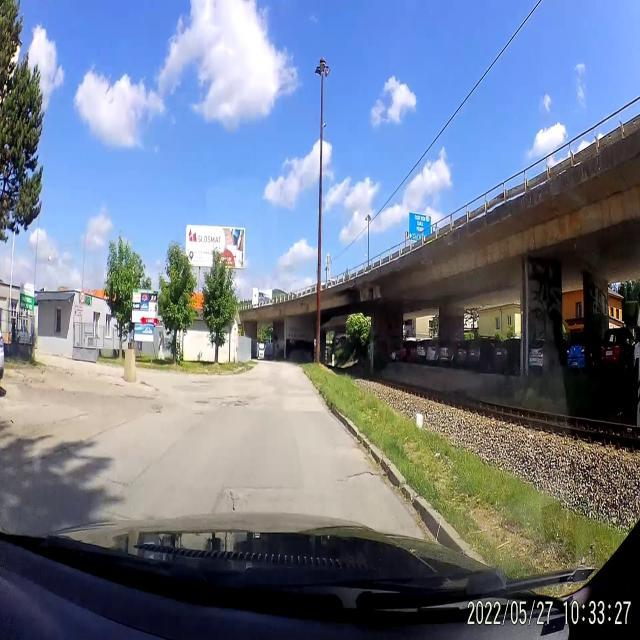Manhole: (193, 396, 211, 408)
Pothole: (344, 468, 384, 483), (224, 480, 242, 513), (223, 396, 249, 408)
